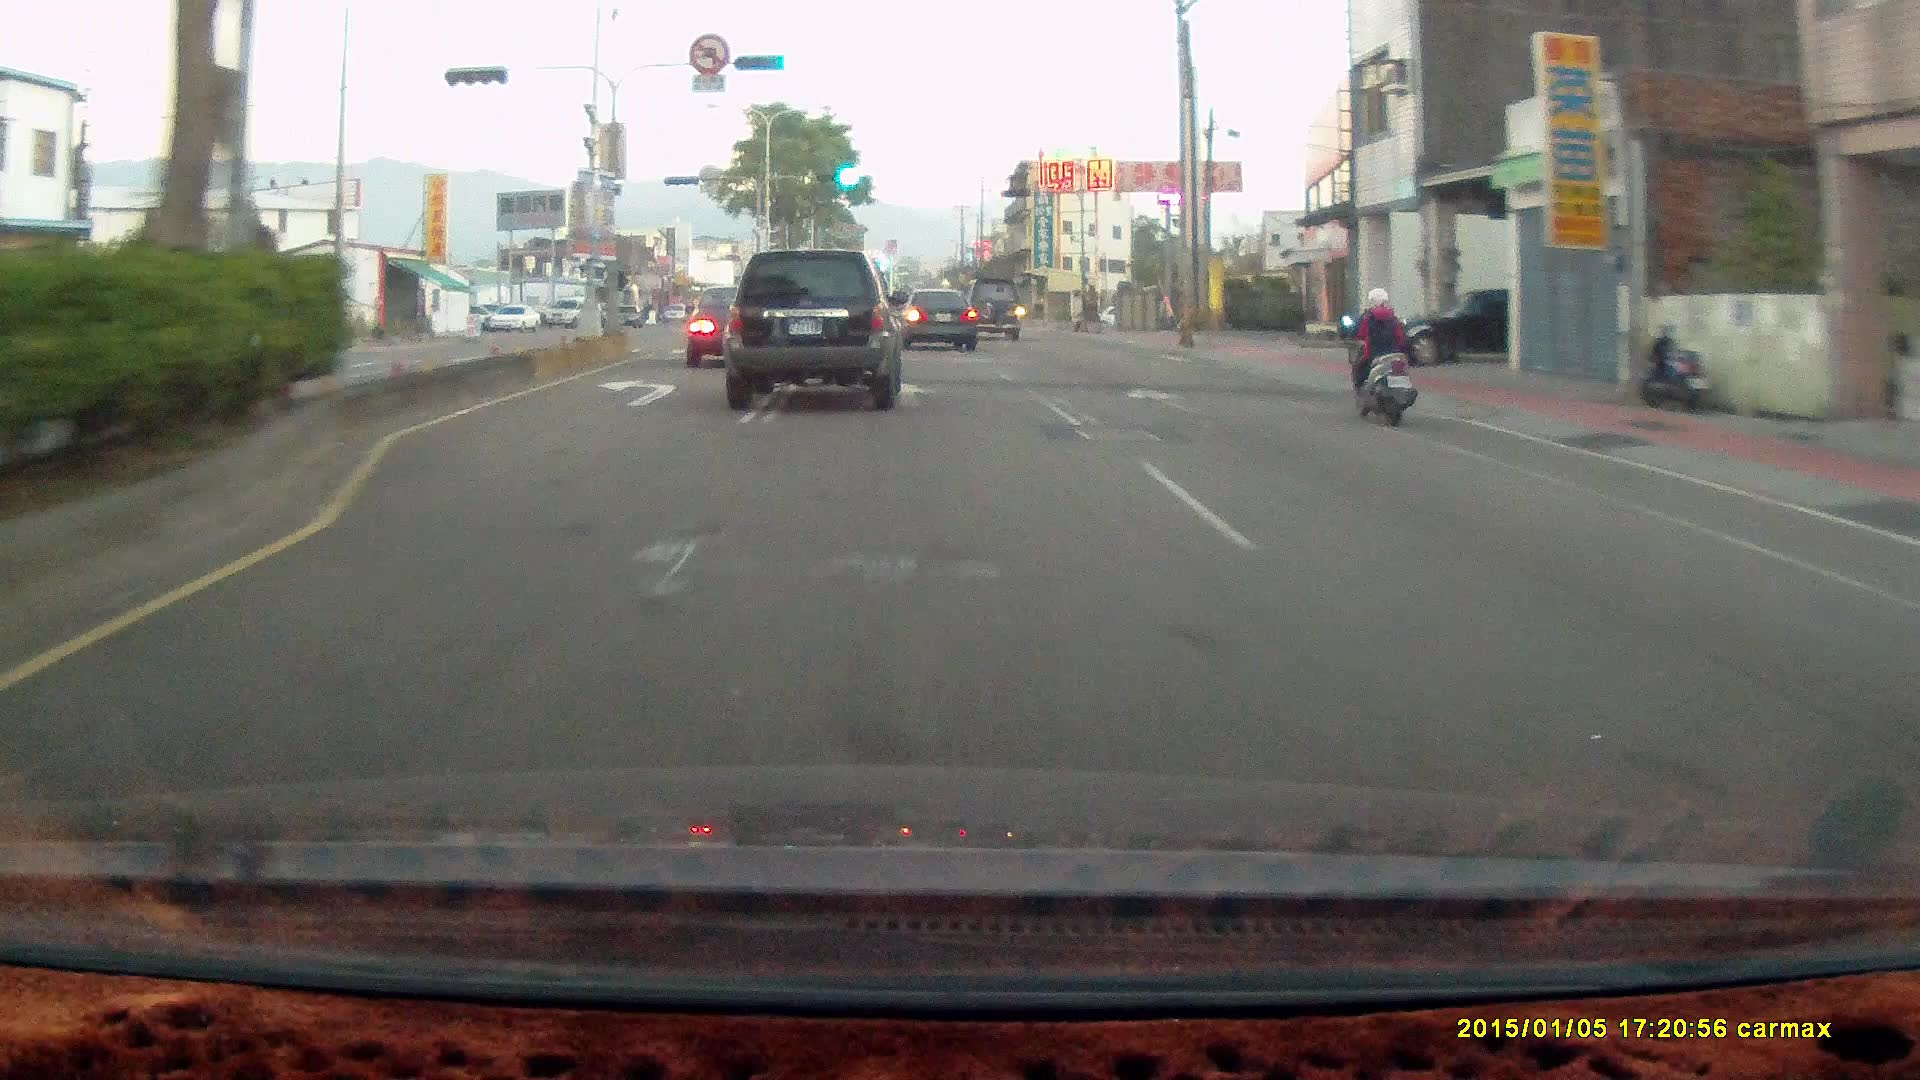rider: (1334, 276, 1429, 437), (1338, 284, 1417, 425)
vehicle: (716, 249, 907, 422), (721, 251, 908, 411), (1379, 286, 1576, 368), (1386, 288, 1521, 372), (686, 287, 796, 374), (683, 287, 791, 368), (895, 289, 980, 353), (894, 287, 977, 350), (959, 277, 1025, 344), (957, 274, 1022, 341), (485, 302, 540, 331), (543, 297, 593, 325)
